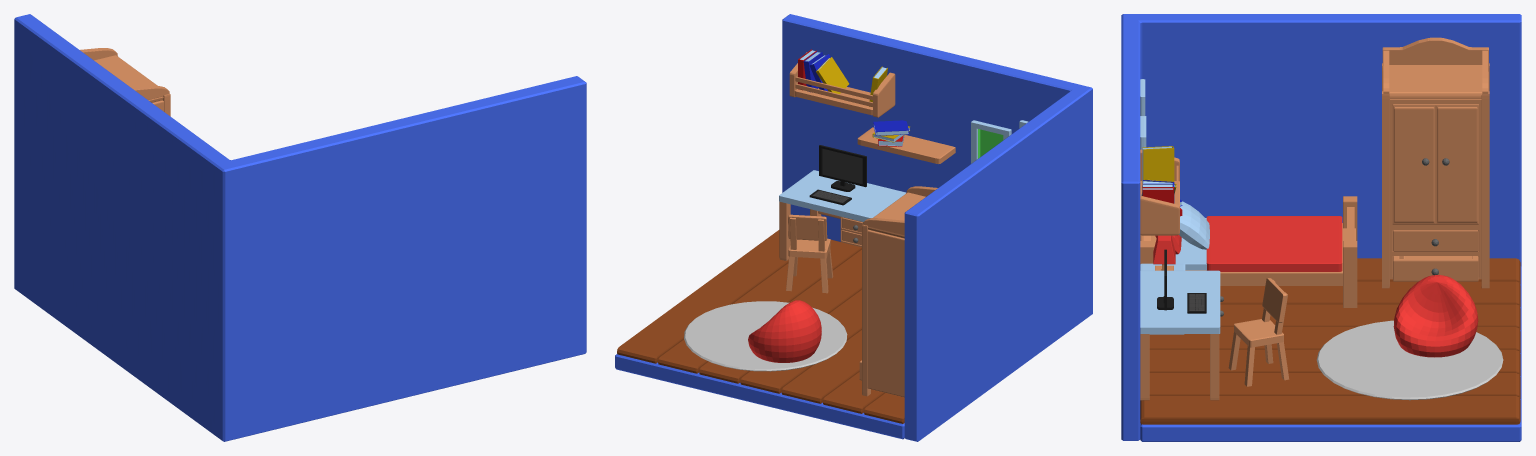
The model's file is Low_poly_bedroom.obj.
The picture shows the model from 3 angles, left to right: view 1: azimuth 30°, elevation 25°; view 2: azimuth 150°, elevation 25°; view 3: azimuth 270°, elevation 25°; orthographic projection. The views are drawn at different scales.
Visible parts, largest first — view 1: Wall_Cube.002, Wardrobe_1_Cube.019; view 2: Wall_Cube.002, Wood_floor_1_Plane.001, Wardrobe_1_Cube.019, Carpet_1_Circle, Floor_Plane, Table_1_Cube.013, Seat_1_Sphere.001, Wall_bookshelf.001_Cube.044, Chair_1_Cube.024, PC_1_Cube.021, Wall_shelf.001_Cube.042, Book_stack_2.001_Cube.045 (+2 smaller); view 3: Wall_Cube.002, Wood_floor_1_Plane.001, Wardrobe_1_Cube.019, Bed_1_Cube.031, Carpet_1_Circle, Floor_Plane, Table_1_Cube.013, Seat_1_Sphere.001, Chair_1_Cube.024, Wall_bookshelf.001_Cube.044, Cube.008, Lamp_1_Cube.027 (+2 smaller).
Part boxes in pixels (x1,y1,x2,y2): Wall_Cube.002: (14,14,586,441); Wardrobe_1_Cube.019: (80,48,170,116); Wall_Cube.002: (782,14,1092,441); Wood_floor_1_Plane.001: (617,230,904,423); Wardrobe_1_Cube.019: (859,186,937,397); Carpet_1_Circle: (684,301,847,371); Floor_Plane: (615,354,904,439); Table_1_Cube.013: (779,170,905,260); Seat_1_Sphere.001: (748,300,821,362); Wall_bookshelf.001_Cube.044: (789,52,895,117); Chair_1_Cube.024: (786,214,833,293); PC_1_Cube.021: (819,145,866,191); Wall_shelf.001_Cube.042: (857,127,955,163); Book_stack_2.001_Cube.045: (798,49,849,93); Wall_Cube.002: (1121,14,1521,440); Wood_floor_1_Plane.001: (1140,258,1520,424); Wardrobe_1_Cube.019: (1382,37,1489,288); Bed_1_Cube.031: (1140,196,1357,307); Carpet_1_Circle: (1316,320,1503,400); Floor_Plane: (1140,266,1521,441); Table_1_Cube.013: (1140,270,1223,400); Seat_1_Sphere.001: (1393,275,1478,357); Chair_1_Cube.024: (1228,278,1289,386); Wall_bookshelf.001_Cube.044: (1140,149,1179,235); Cube.008: (1142,146,1174,183); Lamp_1_Cube.027: (1153,235,1175,270).
Bounding box in the file's own units: 8.4 × 6.03 × 8.4.
